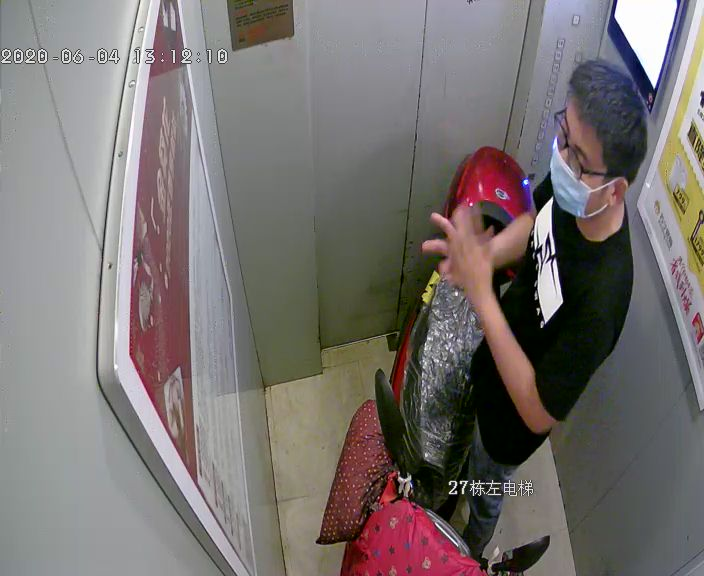Electric-bicycle: (372, 147, 553, 572)
